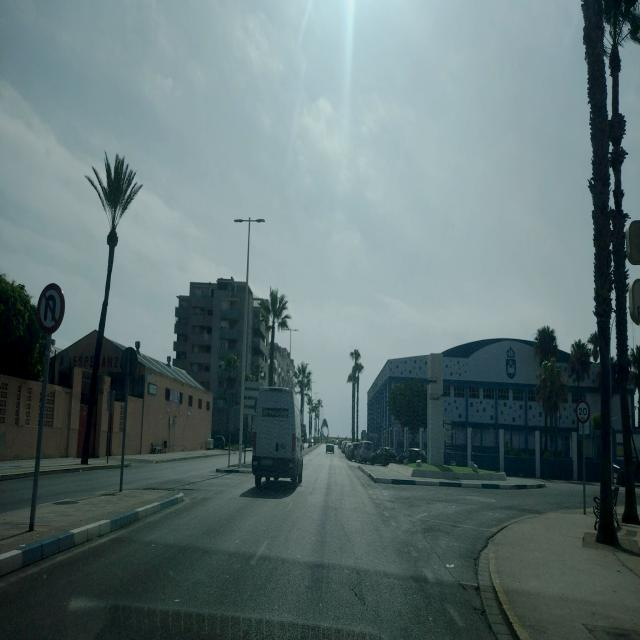car: (372, 446, 398, 465), (356, 440, 374, 462), (405, 447, 426, 463), (210, 434, 226, 449), (326, 440, 334, 454), (341, 442, 348, 454)
